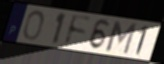1: (52, 12, 67, 46), (135, 26, 149, 56)
6: (87, 19, 110, 51)
F: (63, 14, 93, 48)
M: (104, 19, 138, 56)
O: (23, 10, 46, 42)
